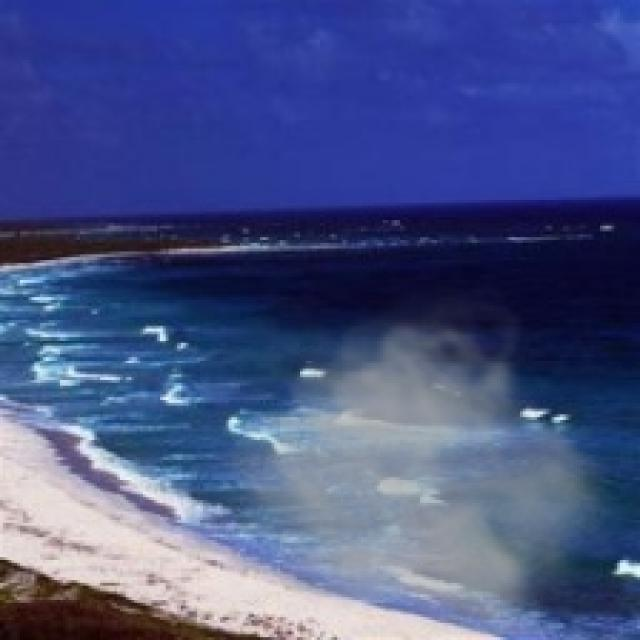smoke: (205, 283, 626, 634)
